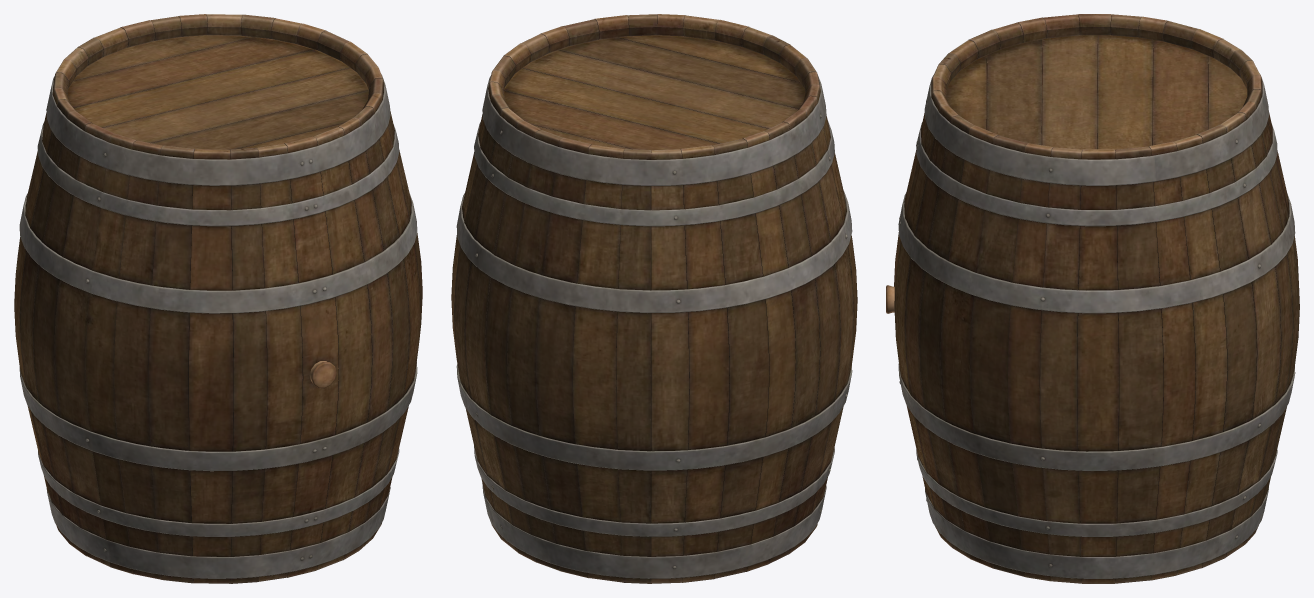
The model's file is wine_barrel_01.glb.
3 renders of one model, left to right at view 1: azimuth 30°, elevation 25°; view 2: azimuth 150°, elevation 25°; view 3: azimuth 270°, elevation 25°, orthographic.
Visible parts, largest first — view 1: wine_barrel_01, wine_barrel_01_Lid, wine_barrel_01_bung; view 2: wine_barrel_01, wine_barrel_01_Lid; view 3: wine_barrel_01, wine_barrel_01_Lid.
Boxes of the visible parts, bbox=[...] form: wine_barrel_01: bbox=[14, 14, 422, 583]; wine_barrel_01_Lid: bbox=[67, 35, 368, 149]; wine_barrel_01_bung: bbox=[310, 361, 336, 388]; wine_barrel_01: bbox=[451, 14, 857, 583]; wine_barrel_01_Lid: bbox=[503, 35, 805, 152]; wine_barrel_01: bbox=[894, 14, 1299, 583]; wine_barrel_01_Lid: bbox=[946, 35, 1247, 149].
Size of the model in its own units: 1.96 by 2.3 by 2.
Materials: 1 (1 with a texture image).
